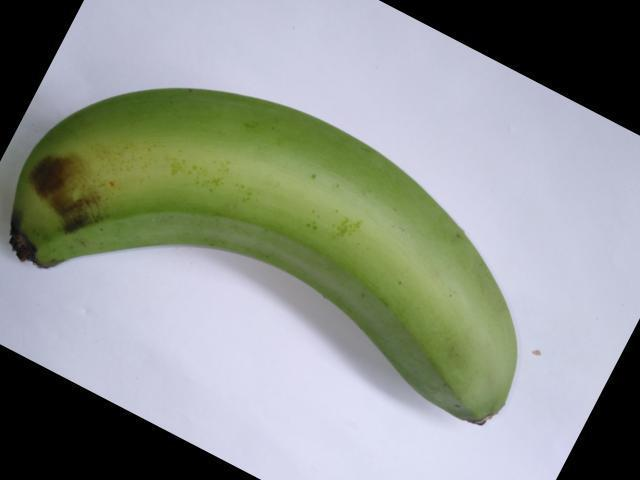freshunripe: (0, 75, 562, 439)
